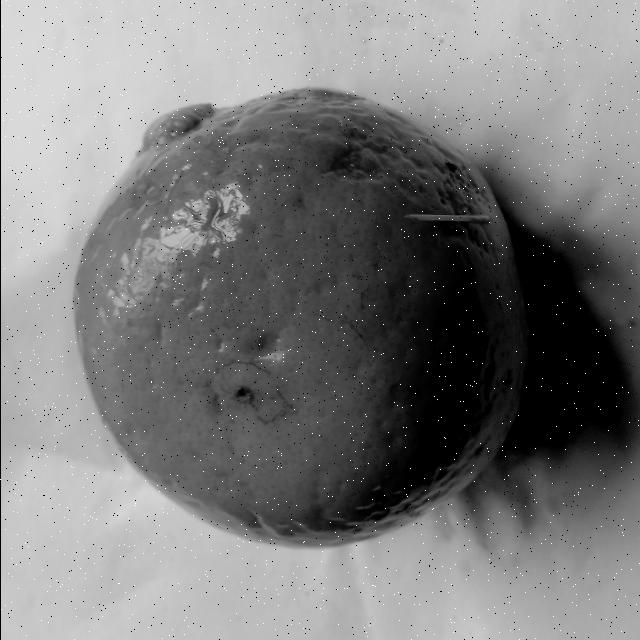Rotten: (71, 88, 532, 550)
